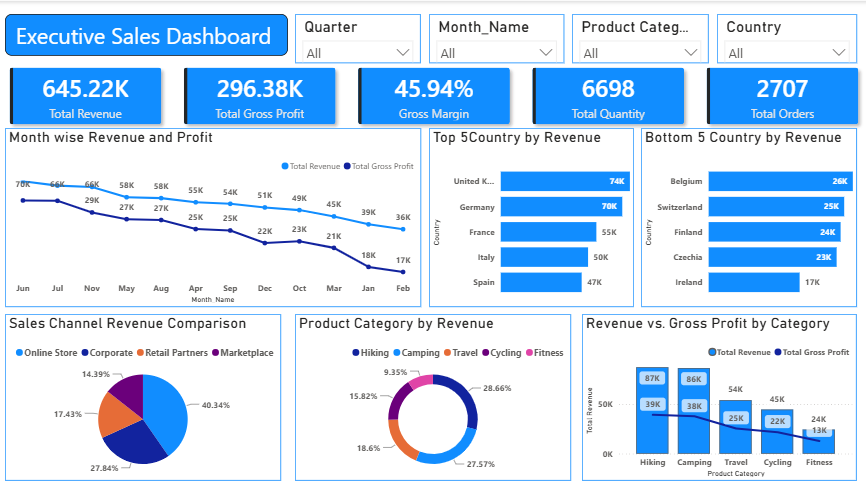

What the dashboard file says about the page in this screenshot:
{"tool":"powerbi","page":{"name":"Page 1","canvas":[1280,720],"ordinal":0},"visuals":[{"type":"cardVisual","fields":{"Data":["All_Measures.Total Revenue","All_Measures.Total Gross Profit","All_Measures.Gross Margin","All_Measures.Total Quantity","All_Measures.Total Orders"]},"box":[0,80.5,1280.5,117.1],"z":0},{"type":"textbox","box":[10.2,19,414.1,61.5],"z":1000},{"type":"slicer","fields":{"Values":["Date_Table.Quarter"]},"box":[434.6,19,184.4,71.7],"z":2000},{"type":"slicer","fields":{"Values":["Date_Table.Month_Name"]},"box":[630.7,19,197.6,71.7],"z":3000},{"type":"slicer","fields":{"Values":["Sales_Data.Product Category"]},"box":[840,19,200.5,71.7],"z":4000},{"type":"slicer","fields":{"Values":["Sales_Data.Country"]},"box":[1052.2,19,204.9,71.7],"z":5000},{"type":"lineChart","title":"Month wise Revenue and Profit","fields":{"Category":["Date_Table.Month_Name"],"Y":["All_Measures.Total Revenue"],"Y2":["All_Measures.Total Gross Profit"]},"box":[10.2,185.9,608.8,262],"z":6000},{"type":"clusteredBarChart","title":"Top 5Country by Revenue","fields":{"Y":["All_Measures.Total Revenue"],"Category":["Sales_Data.Country"]},"box":[630.7,185.9,300,262],"z":7000},{"type":"clusteredBarChart","title":"Bottom 5 Country by Revenue","fields":{"Y":["All_Measures.Total Revenue"],"Category":["Sales_Data.Country"]},"box":[941,185.9,316.1,262],"z":8000},{"type":"pieChart","title":"Sales Channel Revenue Comparison","fields":{"Category":["Sales_Data.Sales Channel"],"Y":["All_Measures.Total Revenue"]},"box":[10.2,458,403.8,244.4],"z":9000},{"type":"donutChart","title":"Product Category by Revenue","fields":{"Category":["Sales_Data.Product Category"],"Y":["All_Measures.Total Gross Profit"]},"box":[435.1,458.6,403.8,244.4],"z":10000},{"type":"lineClusteredColumnComboChart","title":"Revenue vs. Gross Profit by Category","fields":{"Category":["Sales_Data.Product Category"],"Y":["All_Measures.Total Revenue"],"Y2":["All_Measures.Total Gross Profit"]},"box":[854,458,402,244.4],"z":10001}]}

Visuals, with their boxes in screenshot pixels (x1, y1, x2, y2), scaled from the page's 1280x720 canvas onto the 866x486 screenshot:
cardVisual - All_Measures.Total Revenue x All_Measures.Total Gross Profit: [x1=0, y1=54, x2=865, y2=133]
textbox: [x1=7, y1=13, x2=287, y2=54]
slicer - Date_Table.Quarter: [x1=294, y1=13, x2=419, y2=61]
slicer - Date_Table.Month_Name: [x1=427, y1=13, x2=560, y2=61]
slicer - Sales_Data.Product Category: [x1=568, y1=13, x2=704, y2=61]
slicer - Sales_Data.Country: [x1=712, y1=13, x2=851, y2=61]
"Month wise Revenue and Profit" lineChart: [x1=7, y1=125, x2=419, y2=302]
"Top 5Country by Revenue" clusteredBarChart: [x1=427, y1=125, x2=630, y2=302]
"Bottom 5 Country by Revenue" clusteredBarChart: [x1=637, y1=125, x2=851, y2=302]
"Sales Channel Revenue Comparison" pieChart: [x1=7, y1=309, x2=280, y2=474]
"Product Category by Revenue" donutChart: [x1=294, y1=310, x2=568, y2=475]
"Revenue vs. Gross Profit by Category" lineClusteredColumnComboChart: [x1=578, y1=309, x2=850, y2=474]
